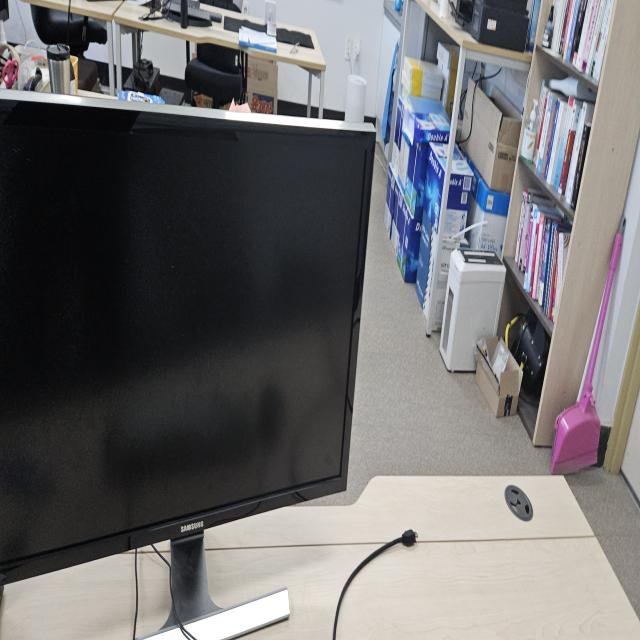Monitor: (2, 83, 377, 631)
